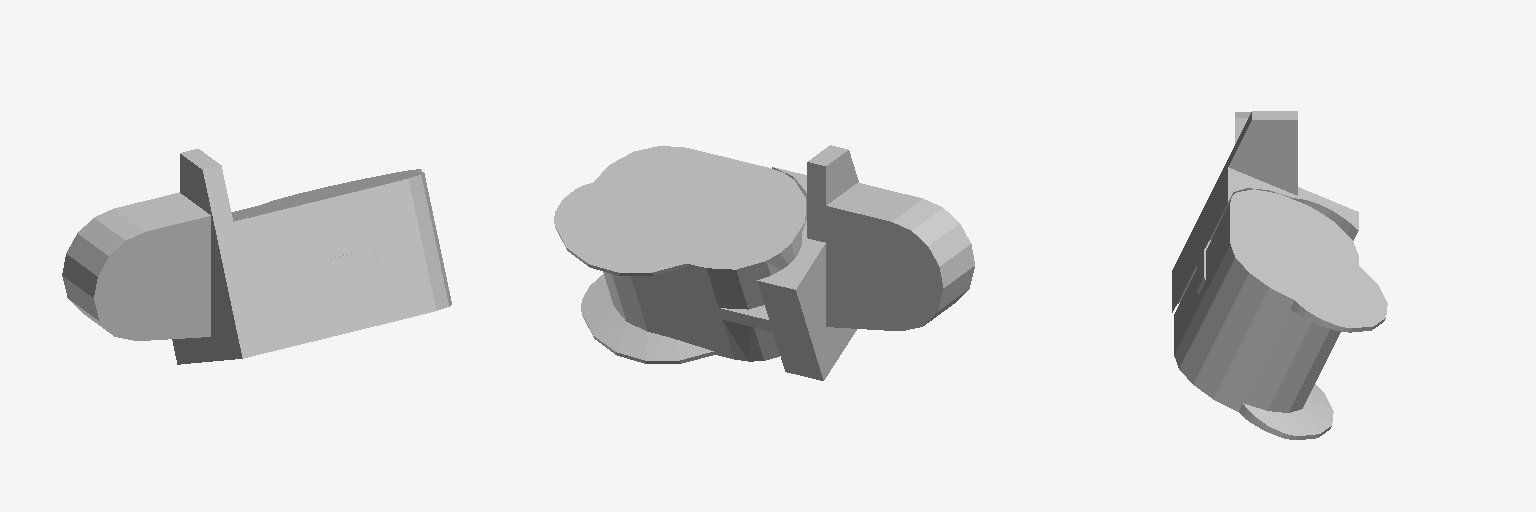
File: ph_thumb_l.obj
3 renders of one model, left to right at view 1: azimuth 30°, elevation 25°; view 2: azimuth 150°, elevation 25°; view 3: azimuth 270°, elevation 25°, orthographic.
Size of the model in its own units: 39.29 by 22.89 by 19.85.